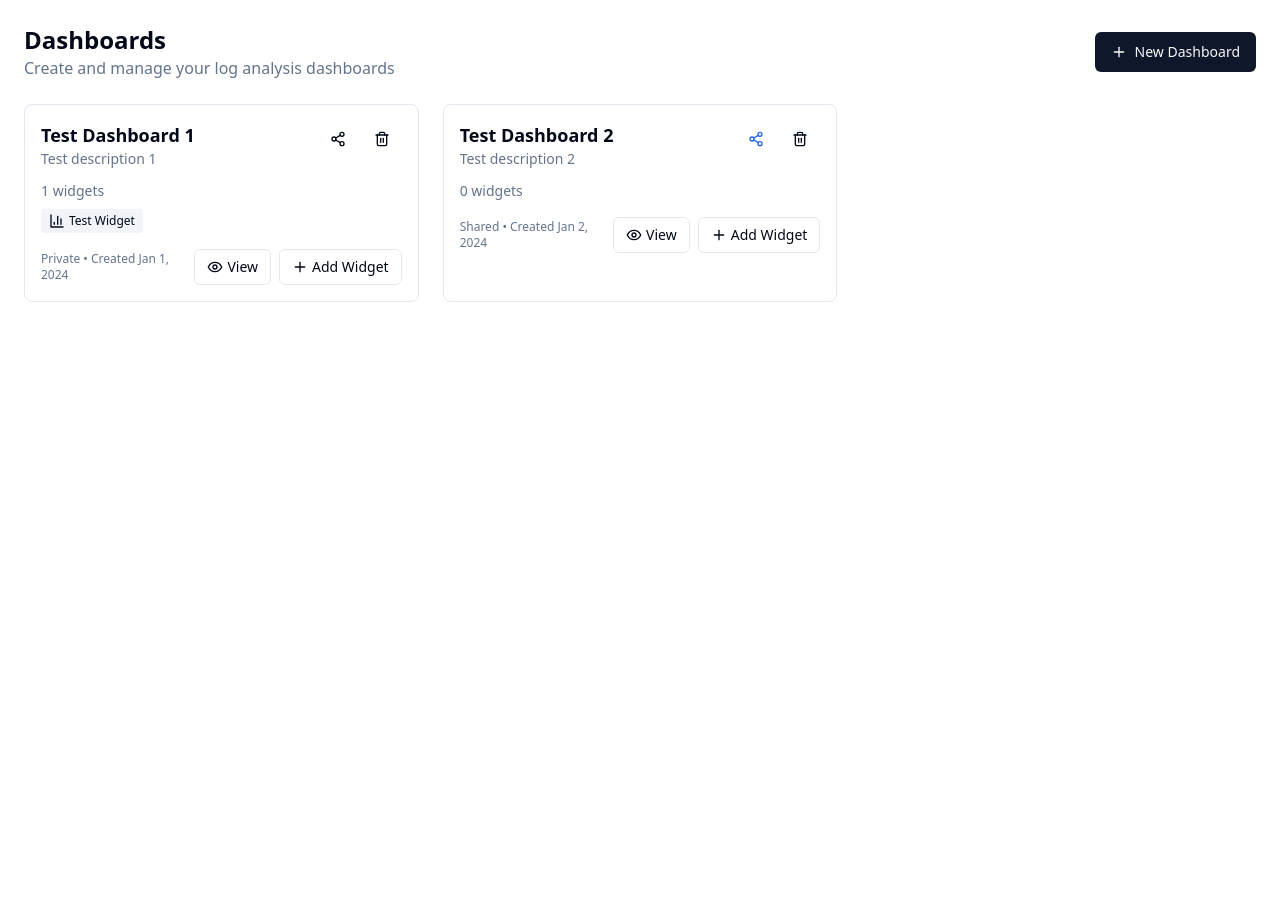
Scenario: DashboardsPage › opens add widget modal when Add Widget button is clicked
This screenshot has width=1280, height=900.
Check: the heading "Test Dashboard 1" is shown, box [41,121,195,149]
Check: the text "Test Dashboard 1" is shown, box [41,123,195,147]
Click the button "Add Widget" in the row of "Jan 1, 2024" at (340, 267), box [279,249,402,285]
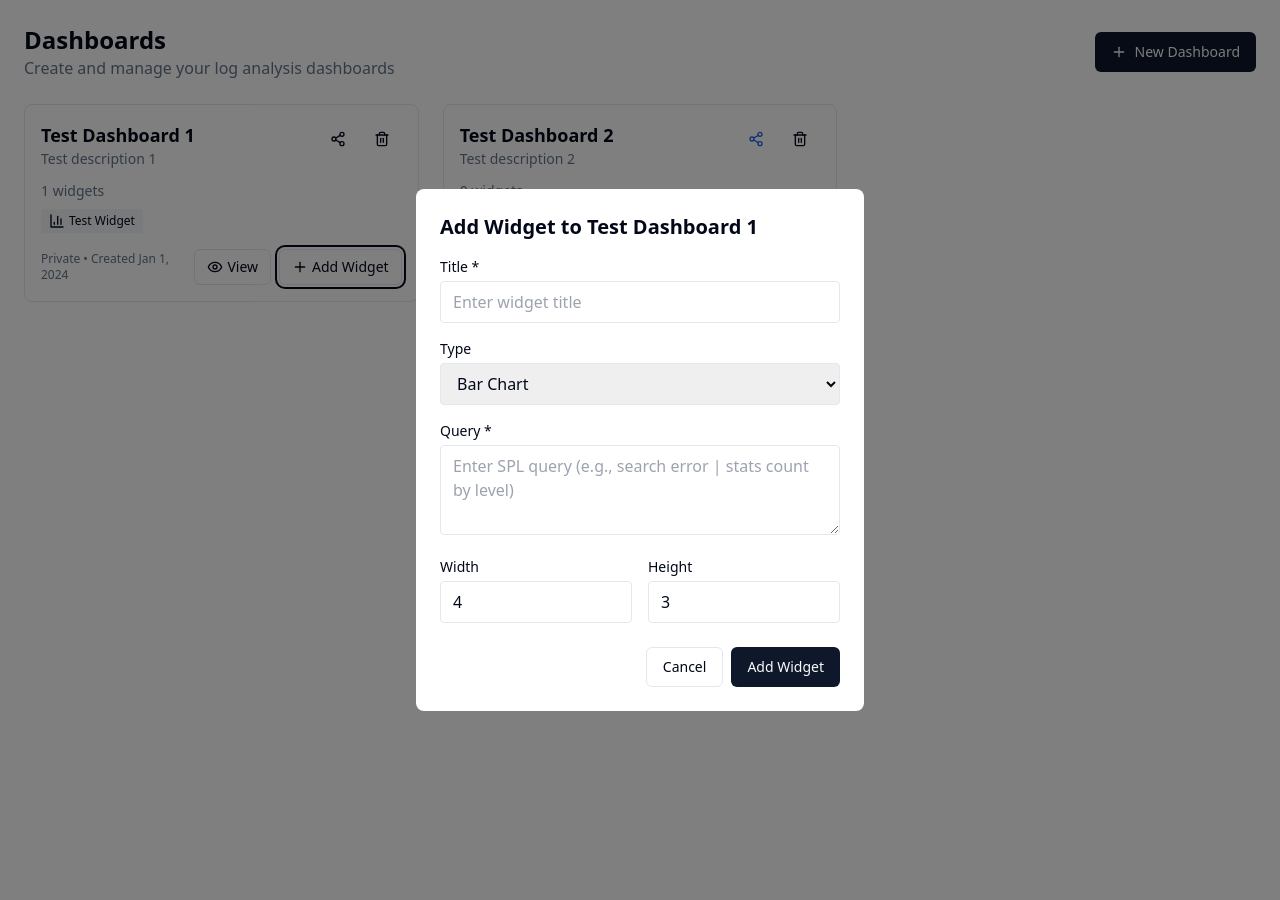
Check: the heading "Add Widget to Test Dashboard 1" is shown, box [440,213,758,240]
Check: the field with placeholder "Enter widget title" is shown, box [440,281,840,323]
Check: the text box with placeholder "Enter SPL query (e.g., search error | stats count by level)" is shown, box [440,445,840,535]
